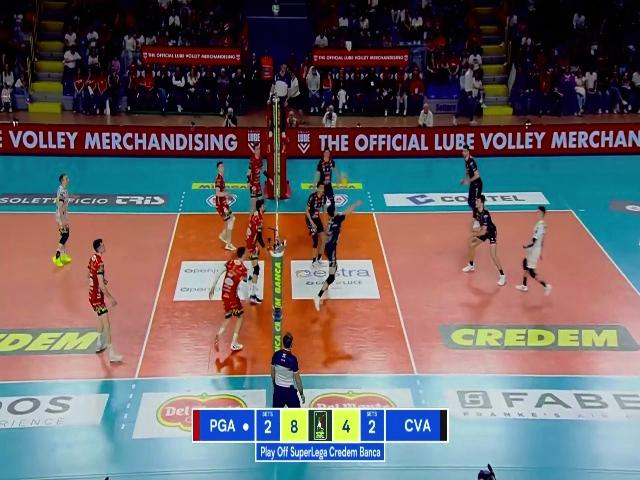volleyball court: (0, 210, 638, 379)
